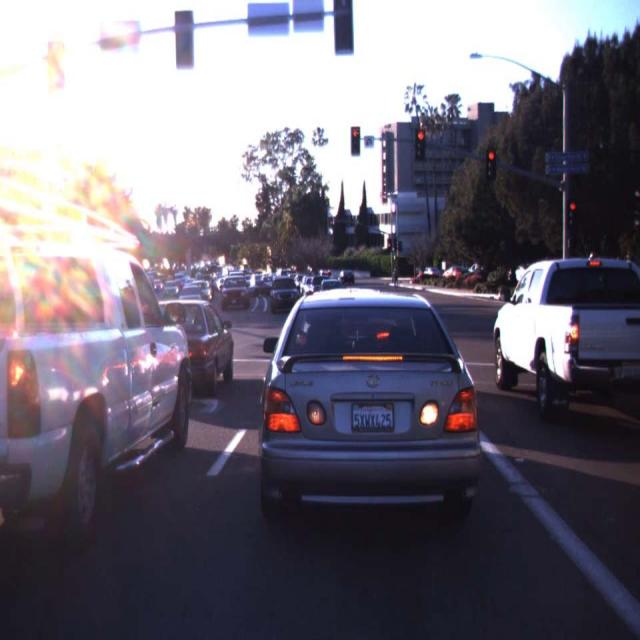kirmizi: (415, 129, 425, 162), (486, 148, 496, 180), (567, 198, 577, 228)
